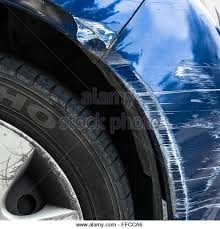Dent: (64, 16, 126, 69)
Scratch: (116, 59, 220, 220)
